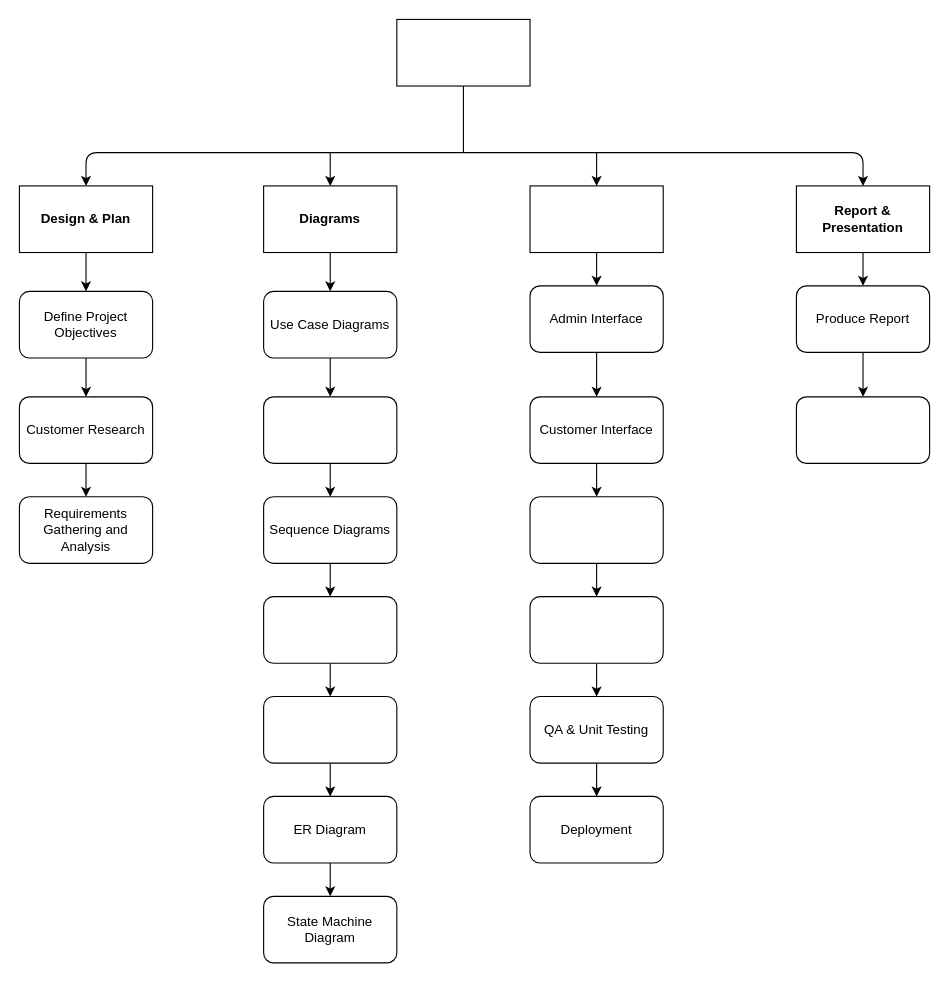
This 949x982 diagram has some shape labels left out. Each missing label, with the box of its shape:
Class Diagram: (263, 695, 397, 763)
Customer Login & Registration Flow: (529, 596, 663, 663)
Hotel Booker: (396, 18, 530, 86)
Implementation: (529, 185, 663, 253)
Produce Presentation: (795, 396, 930, 463)
Reservation System: (529, 496, 663, 563)
System Architecture: (263, 596, 397, 663)
Use Case Descriptions: (263, 396, 397, 463)
